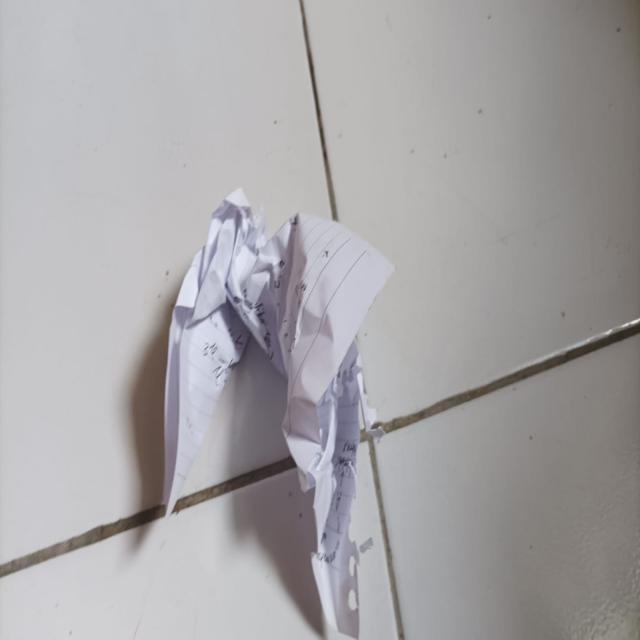Organik: (156, 184, 397, 640)
